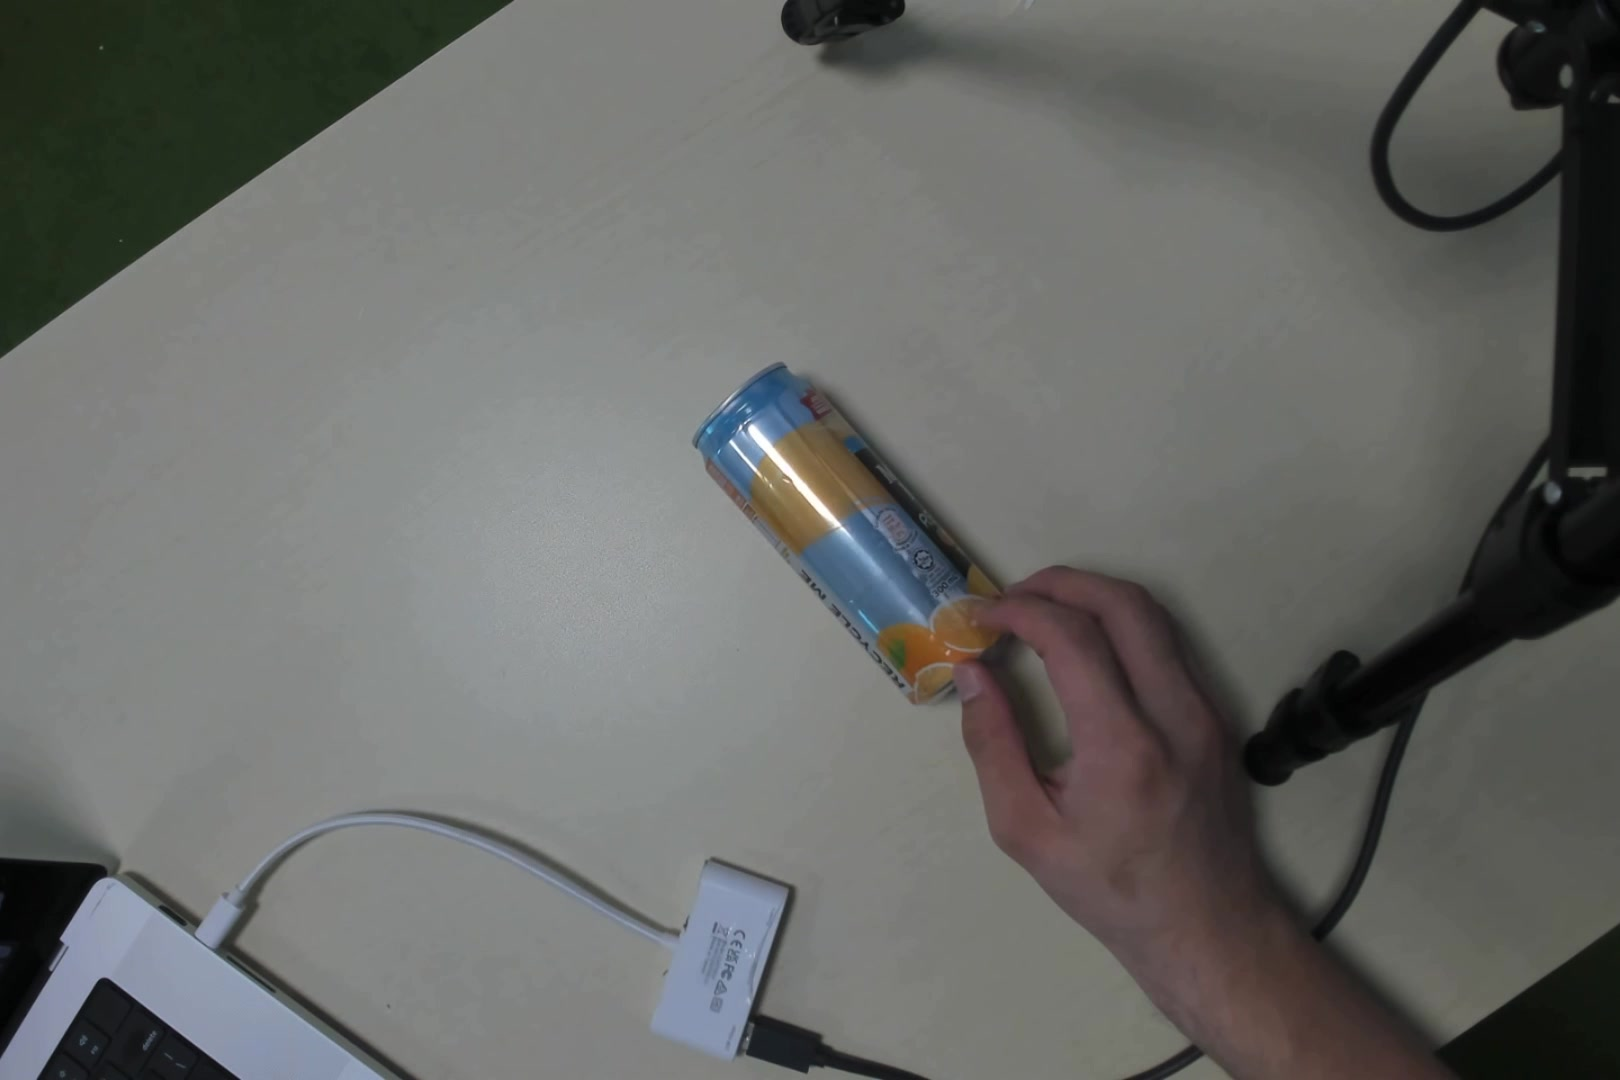SoftDrinks_200-299g_Halal_Healthy: (688, 342, 1002, 730)
